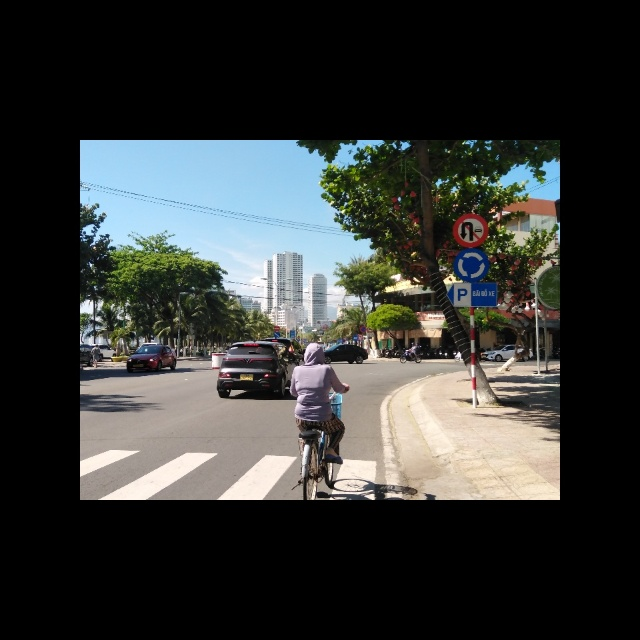Cấm xe ô tô quay đầu: (453, 213, 489, 248)
Nơi giao nhau chạy theo vòng xuyến: (453, 248, 490, 281)
Nơi đỗ xe: (446, 282, 497, 308)
